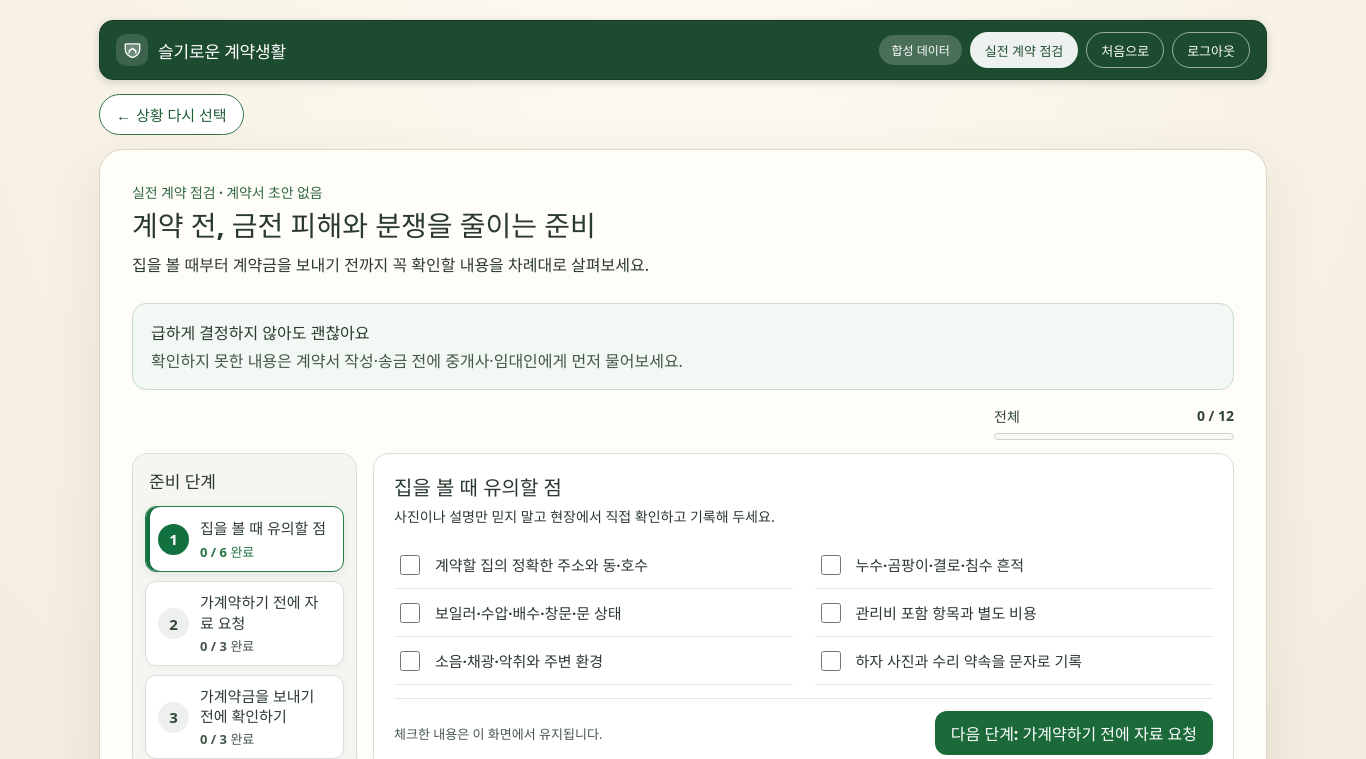
Scenario: ContractPreparationPage › shows a status message after copying the draft request
The width and height of the screenshot is (1366, 759).
Click the button "2 가계약하기 전에 자료 요청 0 / 3 완료" at (244, 624), box [145, 581, 344, 666]
(page scrolled)
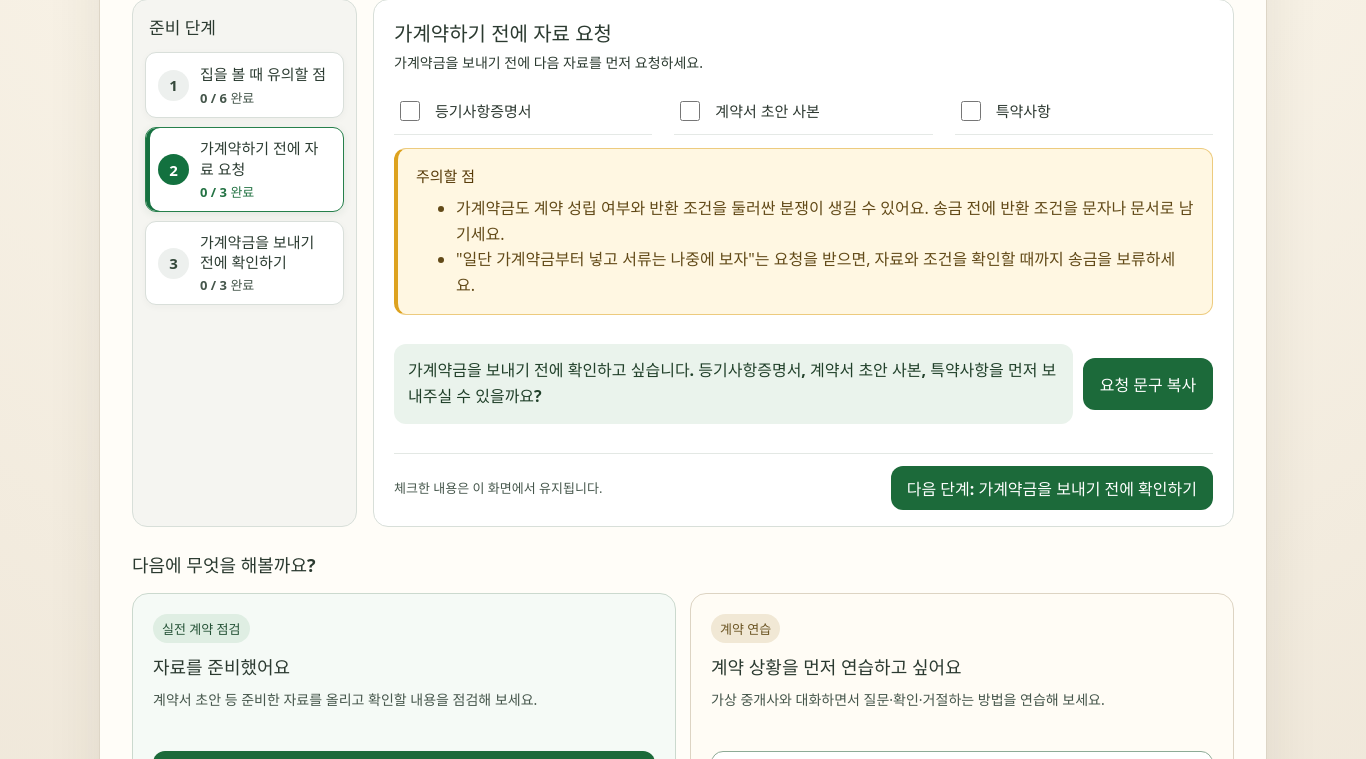
Click the button "요청 문구 복사" at (1148, 384), box [1083, 358, 1213, 410]
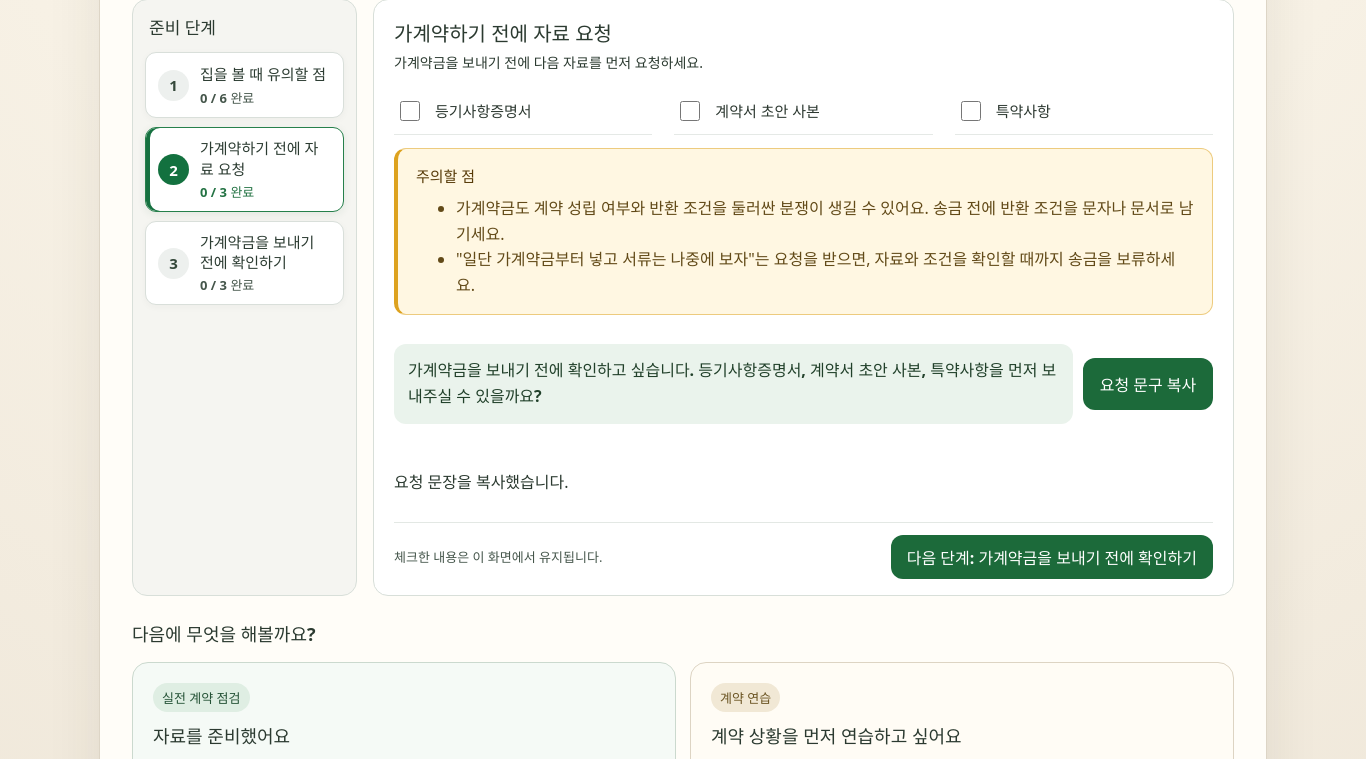
Now the message reads "요청 문장을 복사했습니다.", box [394, 471, 568, 493]
